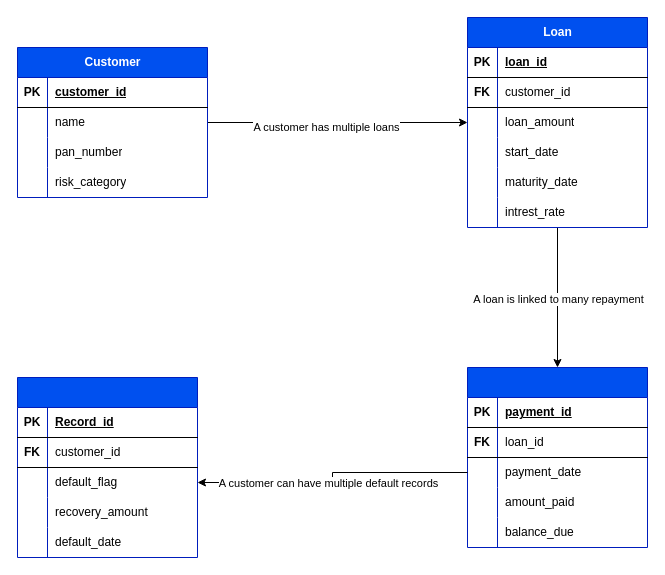
Image size: 665x575. Some labels were removed from this diagram. Each missing label, with the box of its shape:
Default History: (16, 376, 198, 558)
Repayment: (466, 366, 648, 548)
